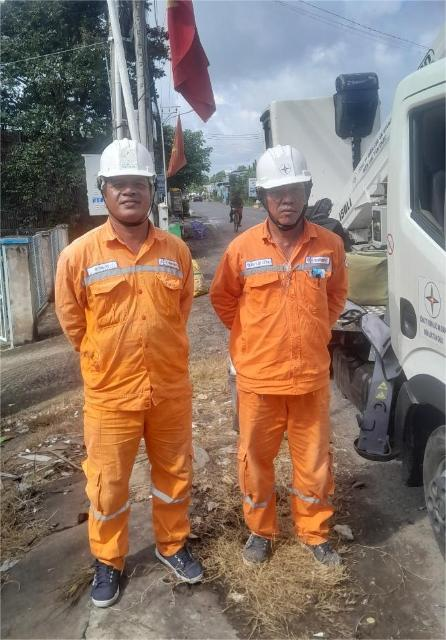helmet: (228, 125, 324, 208), (95, 132, 184, 197)
shoes: (69, 536, 140, 614), (273, 528, 354, 583), (143, 527, 207, 593), (230, 519, 270, 572)
